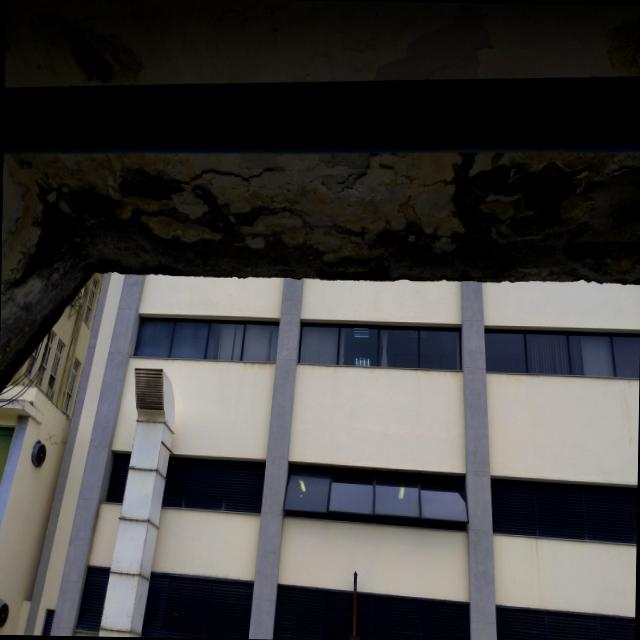gas: (2, 61, 640, 166)
